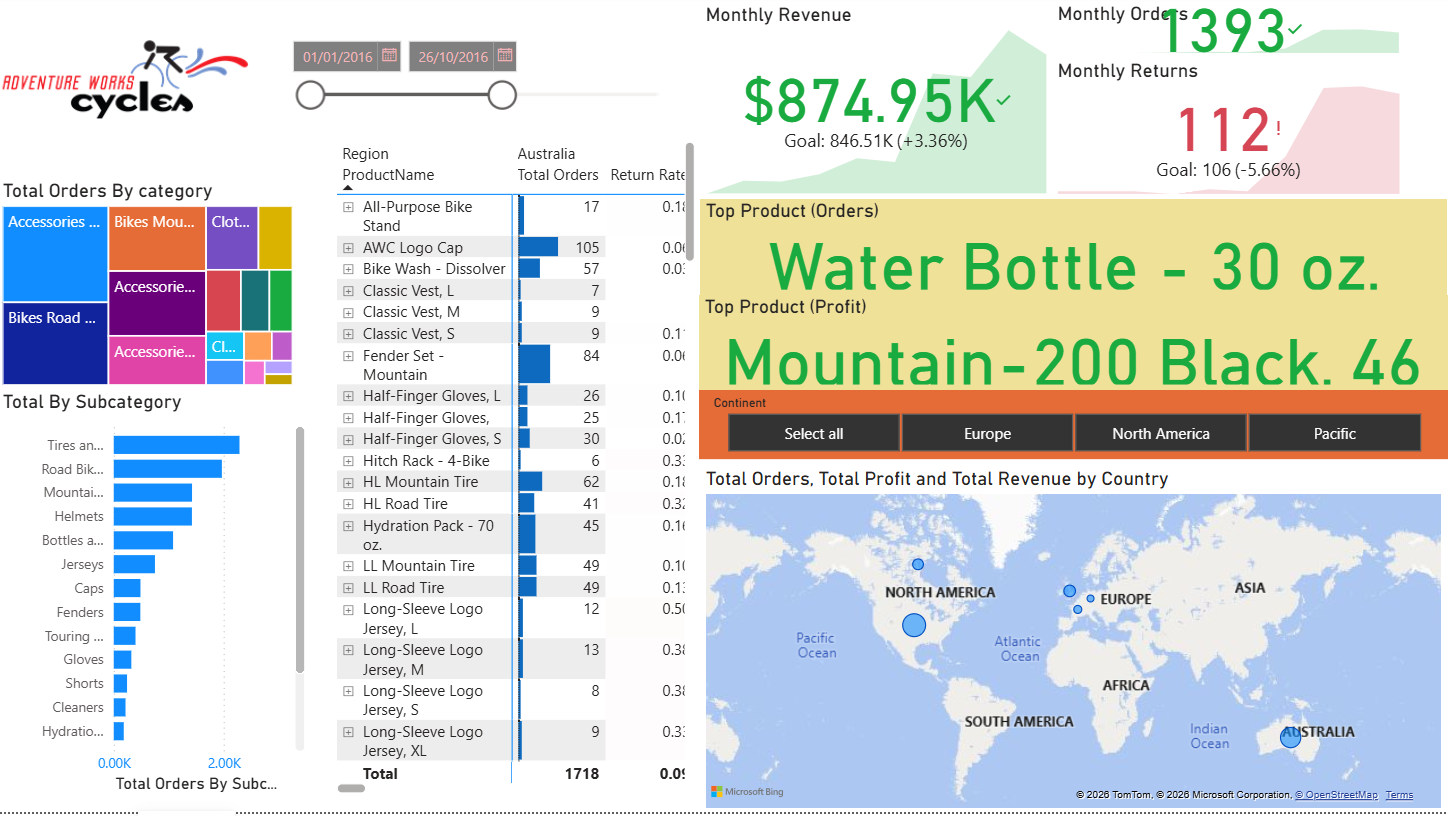

What the dashboard file says about the page in this screenshot:
{"tool":"powerbi","page":{"name":"Product Details","canvas":[1280,720],"ordinal":0},"visuals":[{"type":"image","box":[0,0,228.9,146.9],"z":0},{"type":"barChart","title":"Total By Subcategory","fields":{"Y":["AW_Sales.Total Orders"],"Category":["AW_Product_Subcategory_Lookup.SubcategoryName"]},"box":[0,348,276.4,360.3],"z":1000},{"type":"treemap","title":"Total Orders By category","fields":{"Group":["AW_Product_Categories_Lookup.CategoryName","AW_Product_Subcategory_Lookup.SubcategoryName"],"Values":["AW_Sales.Total Orders"]},"box":[0,161.7,265.6,186.7],"z":2000},{"type":"pivotTable","fields":{"Values":["AW_Sales.Total Orders","AW_Returns.Return Rate"],"Rows":["AW_Products_Lookup.ProductName","AW_Product_Categories_Lookup.CategoryName","AW_Product_Subcategory_Lookup.SubcategoryName"],"Columns":["AW_Territories_Lookup.Region"]},"box":[294.3,123.1,325.6,585.2],"z":3000},{"type":"slicer","fields":{"Values":["AW_Calendar_Lookup.Date"]},"box":[247.9,27.2,357.8,95.7],"z":4000},{"type":"kpi","title":"Monthly Orders","fields":{"TrendLine":["AW_Calendar_Lookup.Start of Month"],"Goal":["AW_Sales.Previous Month Orders"],"Indicator":["AW_Sales.Total Orders"]},"box":[930.9,5.6,311,50.3],"z":5000},{"type":"kpi","title":"Monthly Revenue","fields":{"Indicator":["AW_Sales.Total Revenue"],"TrendLine":["AW_Calendar_Lookup.Start of Month"],"Goal":["AW_Sales.Previous Month Revenue"]},"box":[620.2,6.1,310.6,173.4],"z":6000},{"type":"kpi","title":"Monthly Returns","fields":{"TrendLine":["AW_Calendar_Lookup.Start of Month"],"Indicator":["AW_Returns.Total Returns"],"Goal":["AW_Returns.Previous Month Returns"]},"box":[930.8,55.5,311.6,124],"z":7000},{"type":"card","title":"Top Product (Orders)","fields":{"Values":["Min(AW_Products_Lookup.ProductName)"]},"box":[620.2,179.5,659.5,84.7],"z":8000},{"type":"card","title":"Top Product (Profit)","fields":{"Values":["Min(AW_Products_Lookup.ProductName)"]},"box":[619.2,264.2,660.5,83.7],"z":9000},{"type":"map","fields":{"Category":["AW_Territories_Lookup.Country"],"Size":["AW_Sales.Total Orders"]},"box":[620.2,415.5,659.5,305.5],"z":10000},{"type":"slicer","fields":{"Values":["AW_Territories_Lookup.Continent"]},"box":[619.2,347.9,660.5,60.5],"z":11000}]}

Visuals, with their boxes in screenshot pixels (x1, y1, x2, y2), scaled from the page's 1280x720 canvas onto the 1448x816 screenshot:
image: rect(0, 0, 259, 166)
"Total By Subcategory" barChart: rect(0, 394, 313, 803)
"Total Orders By category" treemap: rect(0, 183, 300, 395)
pivotTable - AW_Sales.Total Orders x AW_Returns.Return Rate: rect(333, 140, 701, 803)
slicer - AW_Calendar_Lookup.Date: rect(280, 31, 685, 139)
"Monthly Orders" kpi: rect(1053, 6, 1405, 63)
"Monthly Revenue" kpi: rect(702, 7, 1053, 203)
"Monthly Returns" kpi: rect(1053, 63, 1405, 203)
"Top Product (Orders)" card: rect(702, 203, 1447, 299)
"Top Product (Profit)" card: rect(700, 299, 1447, 394)
map - AW_Territories_Lookup.Country x AW_Sales.Total Orders: rect(702, 471, 1447, 815)
slicer - AW_Territories_Lookup.Continent: rect(700, 394, 1447, 463)
